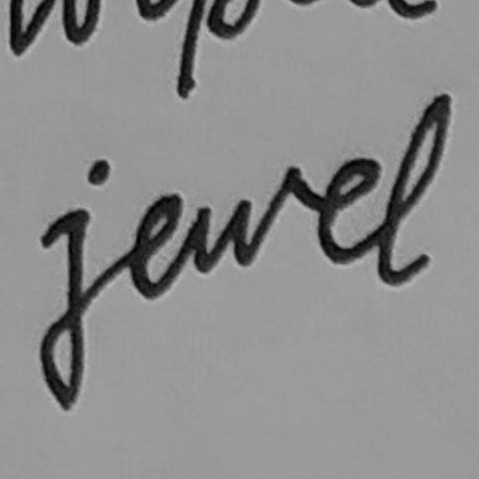e: (312, 150, 386, 265), (122, 189, 188, 307)
j: (29, 151, 116, 420)
l: (372, 84, 457, 291)
w: (190, 163, 305, 277)
